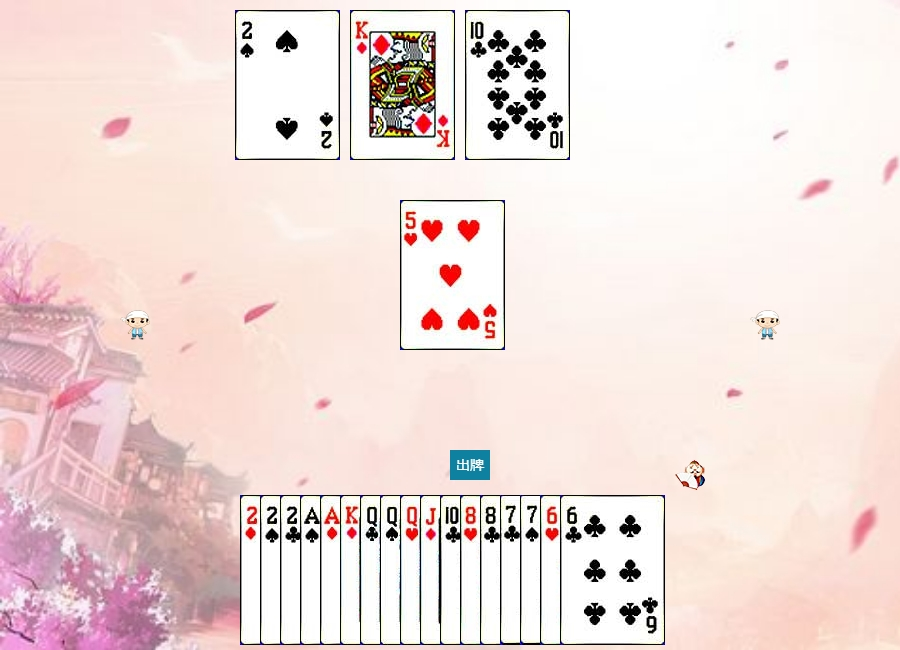10~2: (465, 10, 570, 160), (440, 495, 545, 645)
11~1: (420, 495, 525, 645)
12~2: (360, 495, 465, 645)
12~3: (400, 495, 505, 645)
12~4: (380, 495, 485, 645)
13~1: (350, 10, 455, 160), (340, 495, 445, 645)
14~1: (320, 495, 425, 645)
14~4: (300, 495, 405, 645)
15~1: (240, 495, 345, 645)
15~2: (280, 495, 385, 645)
15~4: (235, 10, 340, 160), (260, 495, 365, 645)
5~3: (400, 200, 505, 350)
6~2: (560, 495, 665, 645)
6~3: (540, 495, 645, 645)
7~2: (500, 495, 605, 645)
7~4: (520, 495, 625, 645)
8~2: (480, 495, 585, 645)
8~3: (460, 495, 565, 645)
